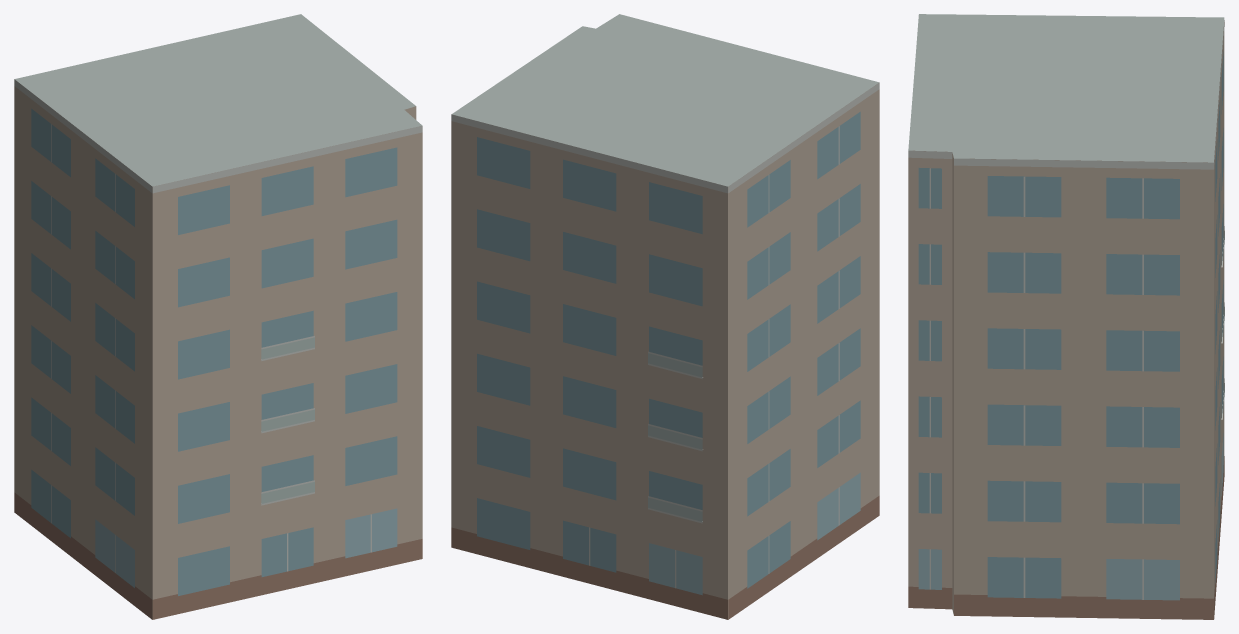
The model's file is survey-upis-32832270.glb.
The picture shows the model from 3 angles, left to right: view 1: azimuth 30°, elevation 25°; view 2: azimuth 150°, elevation 25°; view 3: azimuth 270°, elevation 25°; orthographic projection. The views are drawn at different scales.
Parts seen in each view (by area): view 1: survey-upis-32832270.tmp; view 2: survey-upis-32832270.tmp; view 3: survey-upis-32832270.tmp.
Part boxes in pixels (bbox=[...]): survey-upis-32832270.tmp: bbox=[14, 14, 422, 619]; survey-upis-32832270.tmp: bbox=[451, 14, 879, 619]; survey-upis-32832270.tmp: bbox=[908, 14, 1224, 619].
Bounding box in the file's own units: 10.88 × 15.6 × 9.79.
